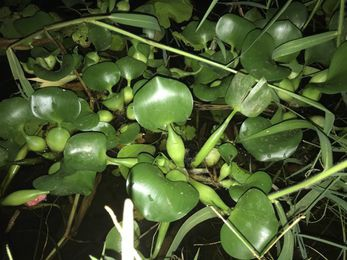water_hyacinth: (1, 3, 344, 260)
